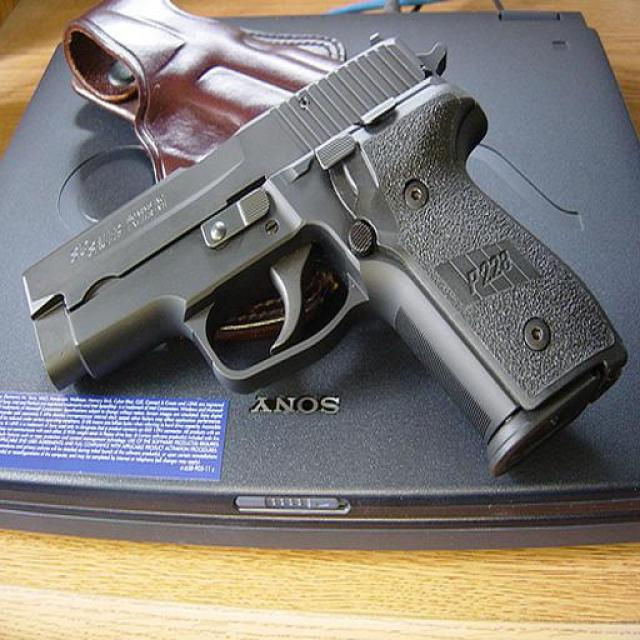pistol: (19, 34, 625, 478)
